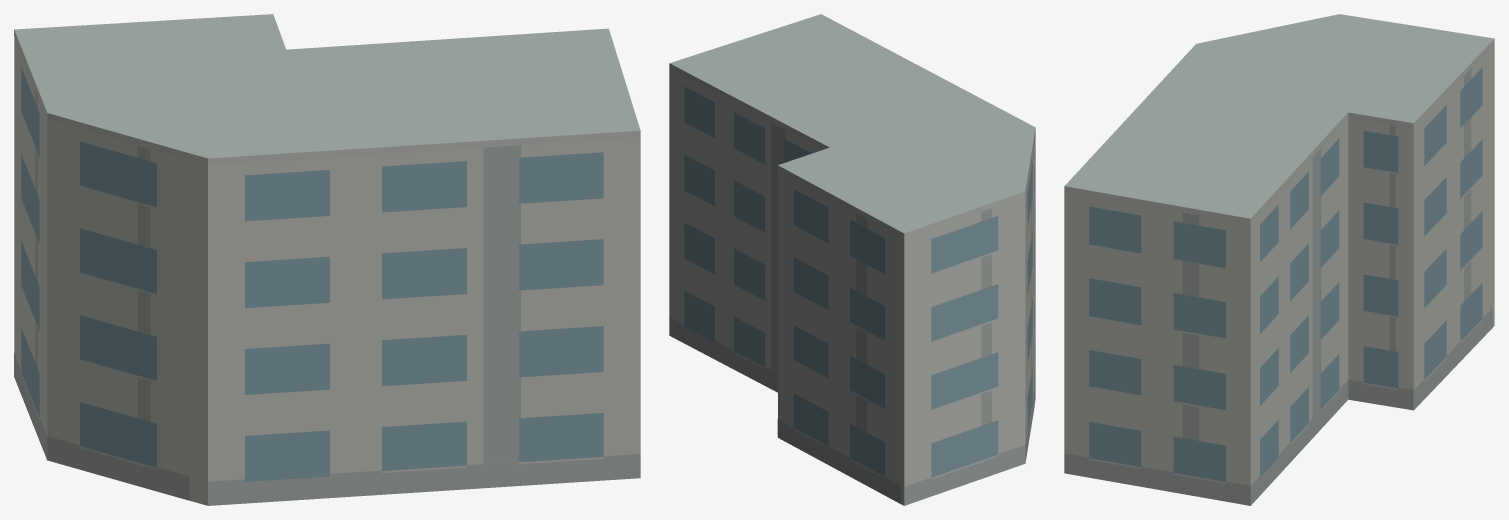
Rendered from survey-upis-32901024.glb.
3 views of the same model, side by side, from view 1: azimuth 30°, elevation 25°; view 2: azimuth 150°, elevation 25°; view 3: azimuth 270°, elevation 25° (orthographic). The views are drawn at different scales.
Parts seen in each view (by area): view 1: survey-upis-32901024.tmp; view 2: survey-upis-32901024.tmp; view 3: survey-upis-32901024.tmp.
Part boxes in pixels (box(x1,y1,x2,y2)): survey-upis-32901024.tmp: box(14, 14, 640, 505); survey-upis-32901024.tmp: box(669, 14, 1035, 505); survey-upis-32901024.tmp: box(1064, 14, 1494, 505).
Size of the model in its own units: 18.67 by 12.2 by 16.57.
